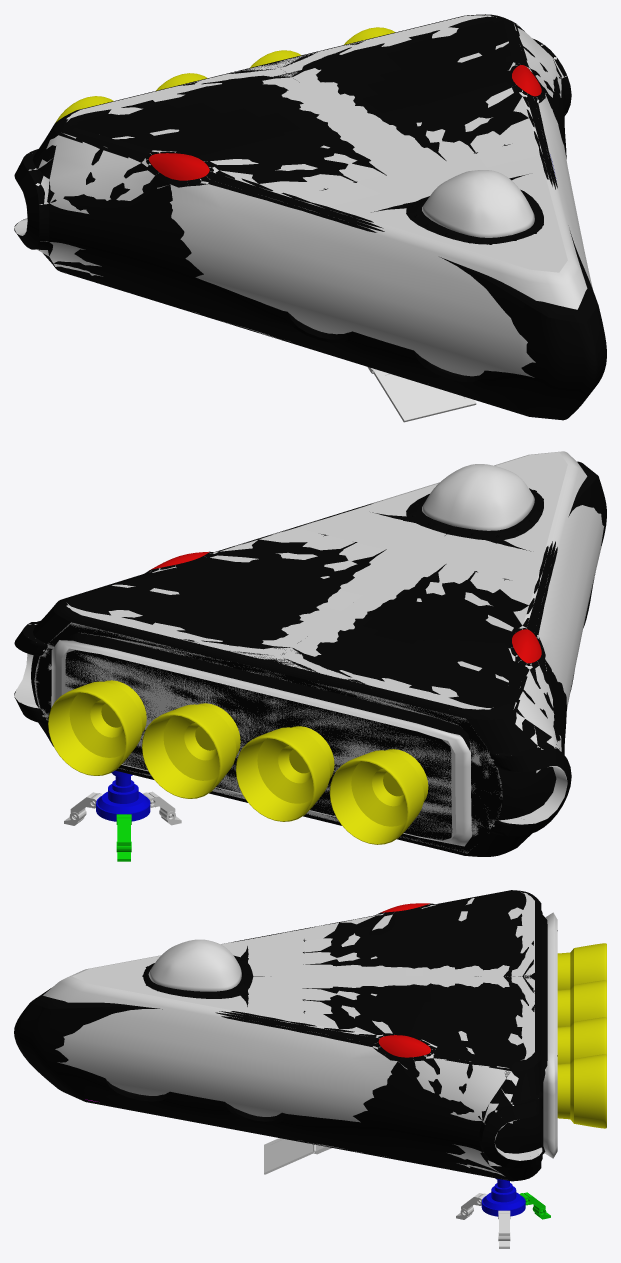
The model's file is Gouda-1.glb.
The picture shows the model from 3 angles, top to bottom: view 1: azimuth 30°, elevation 25°; view 2: azimuth 150°, elevation 25°; view 3: azimuth 270°, elevation 25°; orthographic projection. The views are drawn at different scales.
Parts seen in each view (by area): view 1: Exterior, Gouda_1_Exterior.001-noimp, CockpitGlass, BoardingRamp_End; view 2: Exterior, Gouda_1_Exterior.001-noimp, CockpitGlass, LandingGear; view 3: Exterior, Gouda_1_Exterior.001-noimp, CockpitGlass, BoardingRamp_End, LandingGear.
Part boxes in pixels (<box>): Exterior: <box>14,14,606,420</box>; Gouda_1_Exterior.001-noimp: <box>14,15,592,377</box>; CockpitGlass: <box>422,170,534,237</box>; BoardingRamp_End: <box>371,369,476,422</box>; Exterior: <box>14,461,606,856</box>; Gouda_1_Exterior.001-noimp: <box>14,451,604,853</box>; CockpitGlass: <box>422,464,534,530</box>; LandingGear: <box>96,770,150,821</box>; Exterior: <box>14,890,606,1181</box>; Gouda_1_Exterior.001-noimp: <box>43,891,557,1176</box>; CockpitGlass: <box>148,939,241,991</box>; BoardingRamp_End: <box>264,1138,316,1174</box>; LandingGear: <box>481,1178,525,1216</box>.
Size of what is drawn, in the model's own units: 23.02 by 10.97 by 27.1.
